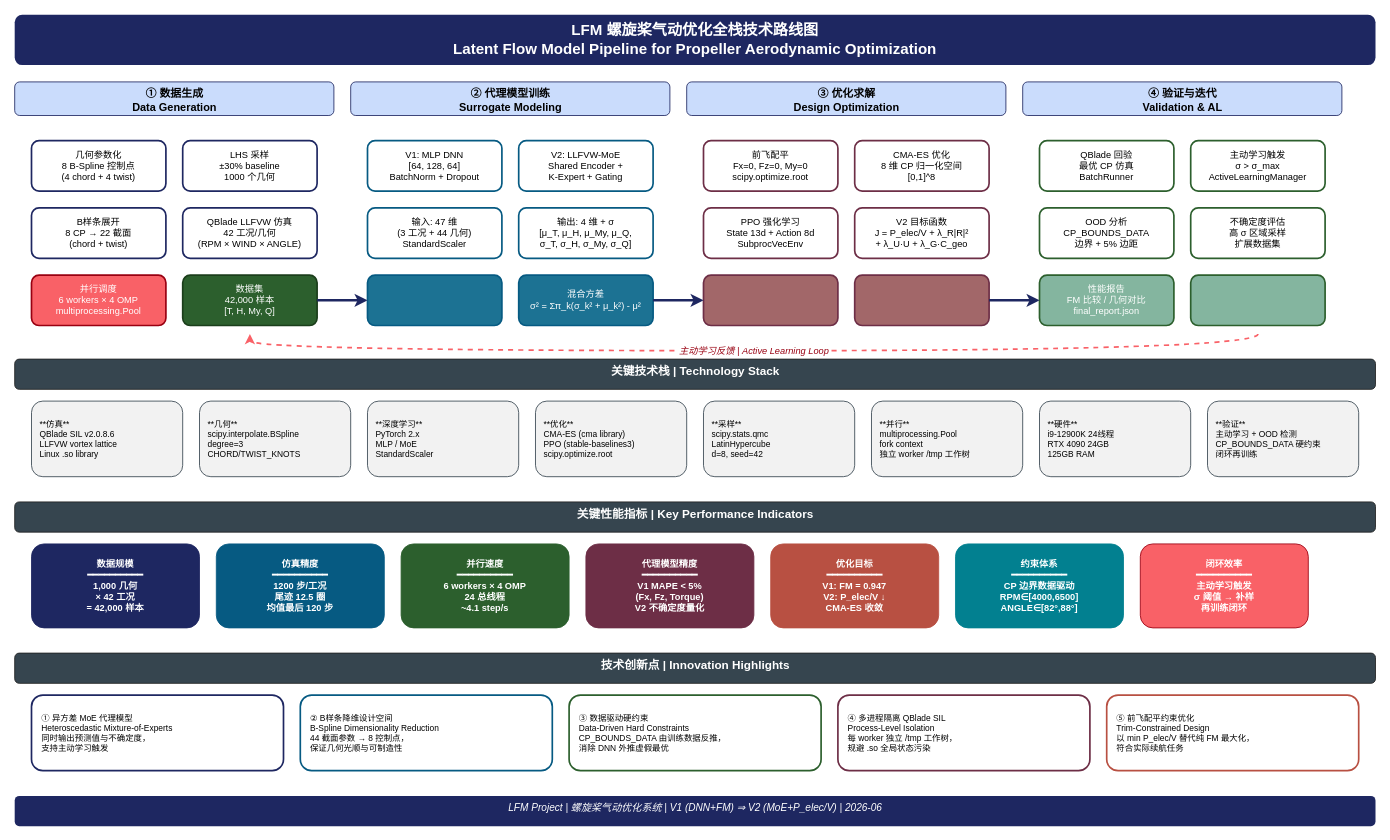
This 1390x840 diagram has some shape labels left out. The shapes that lost their labels are listed below. From the top down, each one's centre as x and y in pixels, then its label:
At point (434, 300): "损失函数 异方差 NLL + Balance + Entropy".
At point (770, 300): "V1 目标 max FM = mg·V / P_total 硬约束 CP_BOUNDS_DATA".
At point (921, 300): "V2 目标 min P_elec/V (单位距离能耗)".
At point (1257, 300): "再训练 DNN/MoE 更新 闭环优化".
